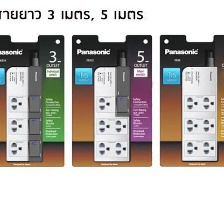book: (70, 33, 154, 168), (154, 32, 223, 170), (0, 30, 67, 172)
three_eye_plug: (178, 63, 221, 163), (92, 65, 133, 165), (3, 64, 44, 164)
